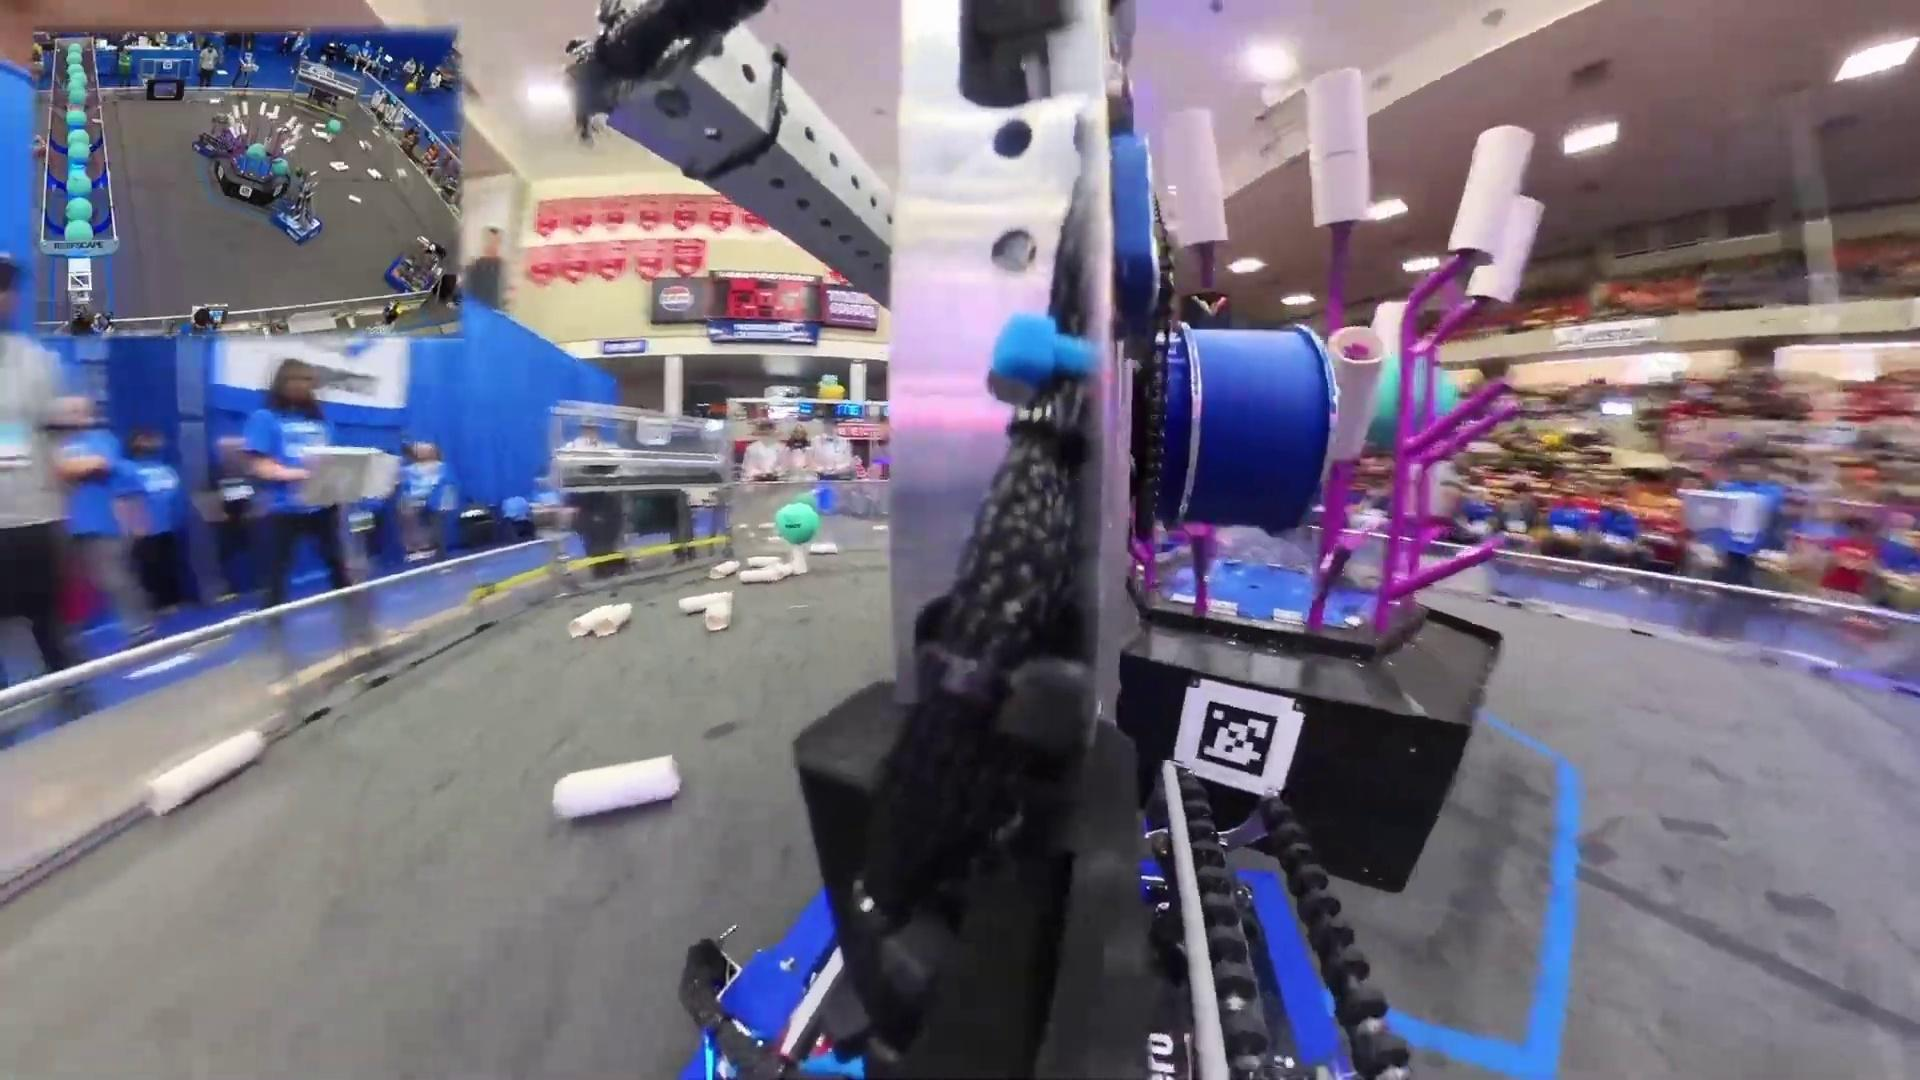robot: (270, 170, 326, 247), (381, 236, 442, 298), (193, 95, 224, 161)
